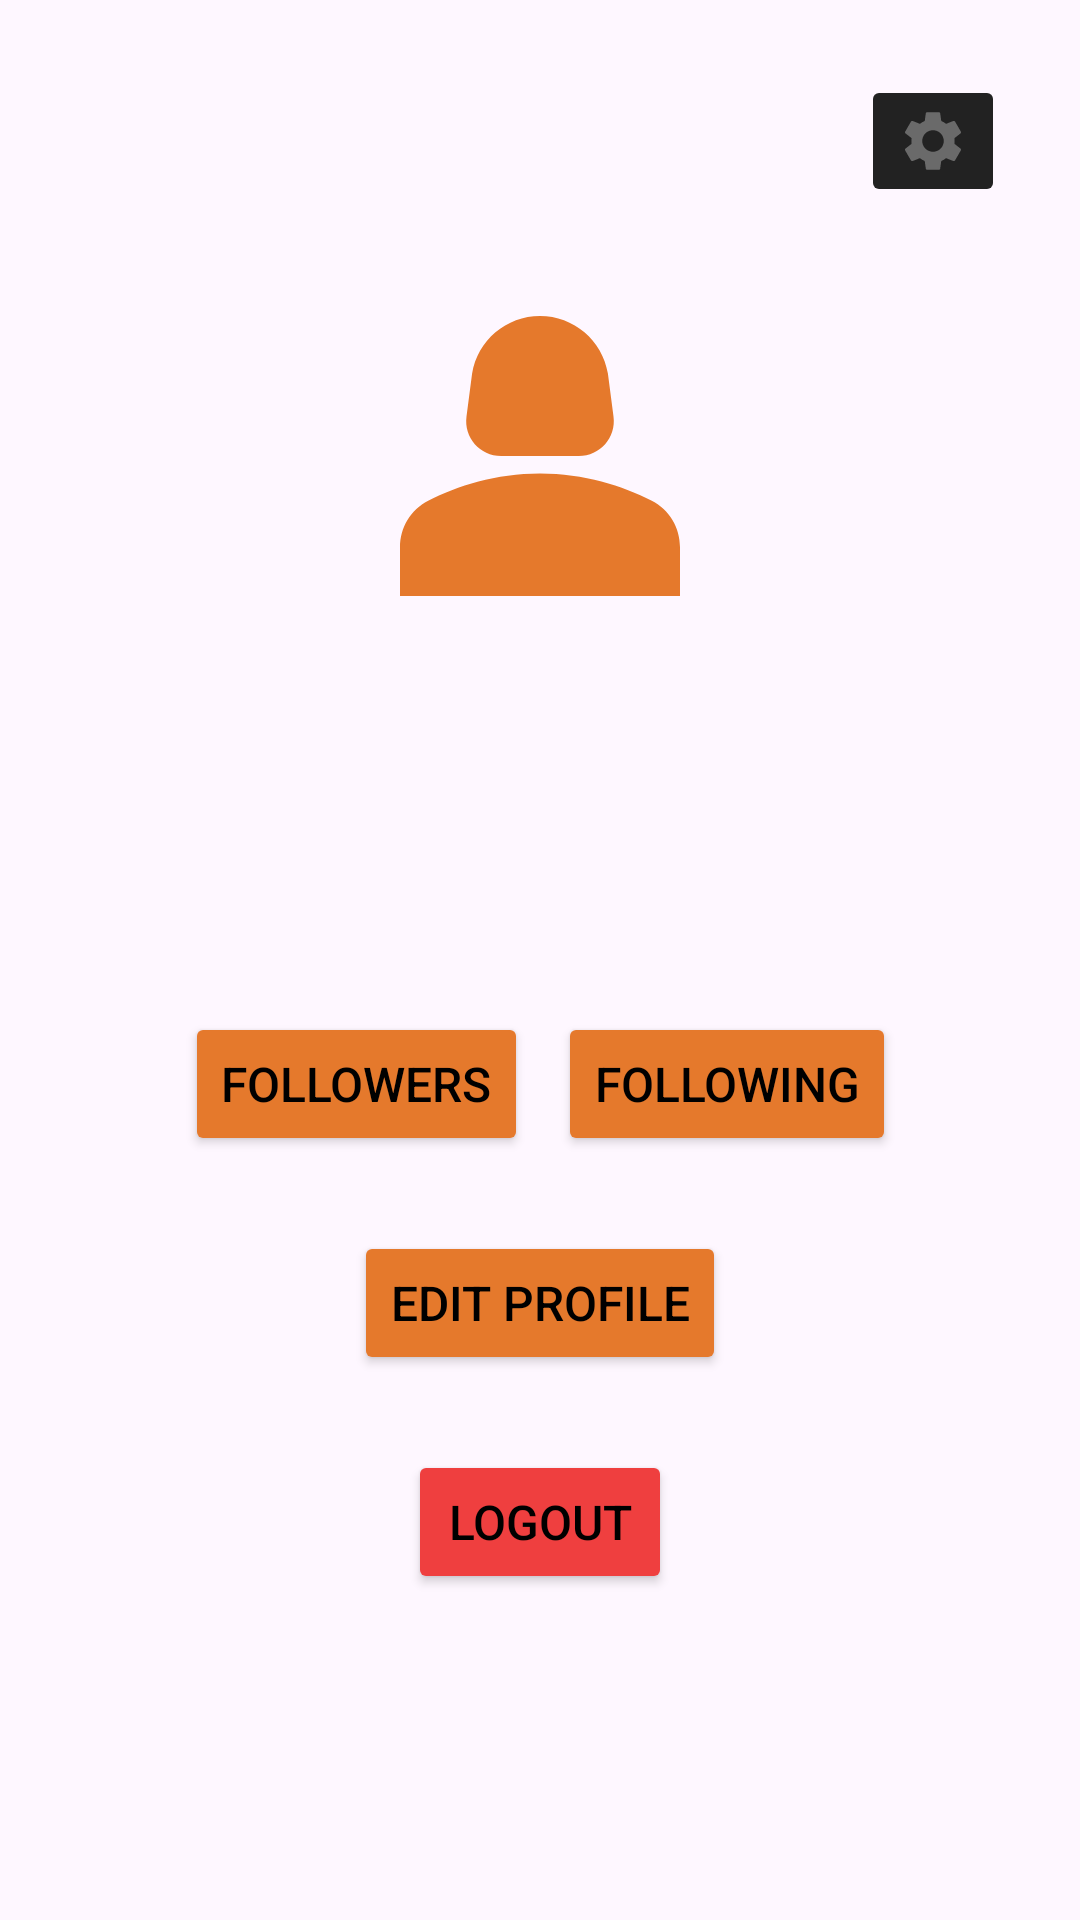

Icon click points for this 1080*1920 phone screenshot, format point (x, y):
settings: point (933, 141)
user: point (540, 456)
